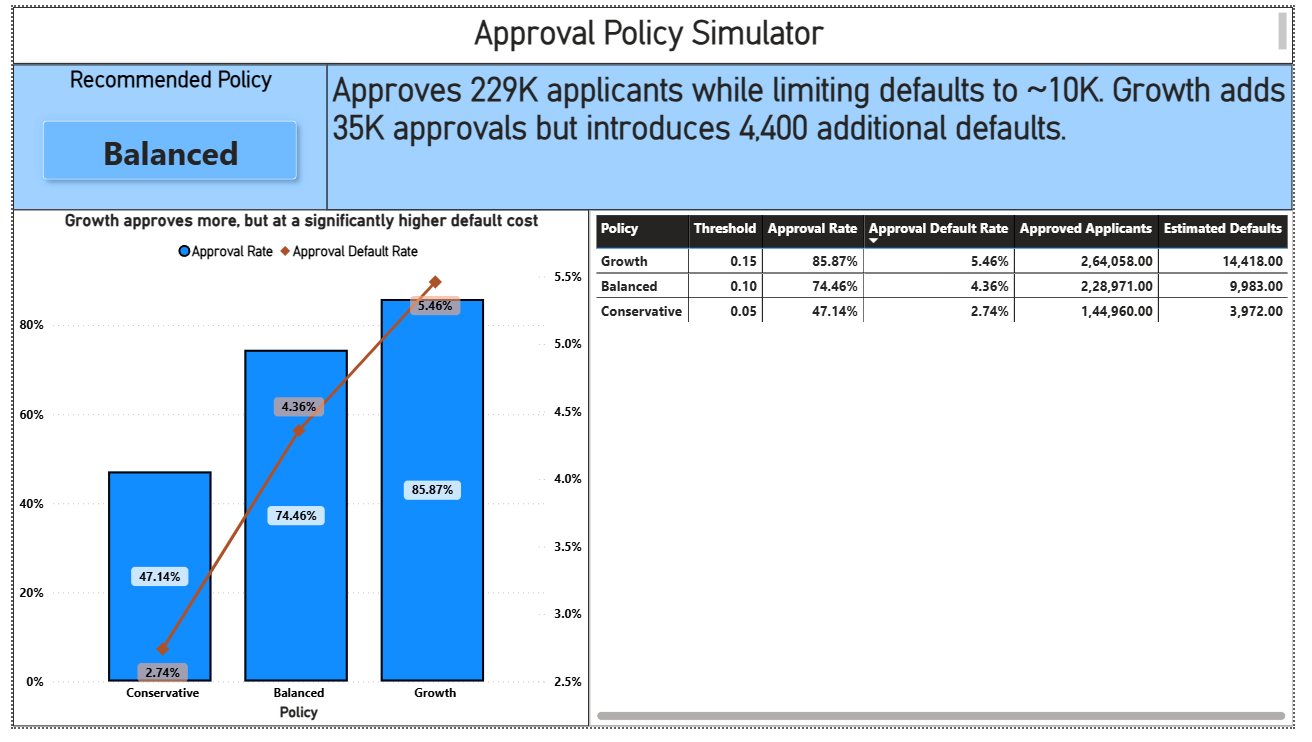

This screenshot's page, from the dashboard's own definition file:
{"tool":"powerbi","page":{"name":"Approval Policy","canvas":[1280,720],"ordinal":3},"visuals":[{"type":"textbox","title":"JGJGJVB","box":[0,0,1280,57.1],"z":0},{"type":"cardVisual","title":"Recommended Policy","fields":{"Data":["Policy Summary.Recommended Policy"]},"box":[0,57.1,314.3,145.7],"z":1},{"type":"lineClusteredColumnComboChart","title":"Growth approves more, but at a significantly higher default cost","fields":{"Category":["Policy Summary.Policy"],"Y":["Sum(Policy Summary.Approval Rate)"],"Y2":["Sum(Policy Summary.Approval Default Rate)"]},"box":[0,202.9,575.7,517.1],"z":2},{"type":"tableEx","fields":{"Values":["Policy Summary.Policy","Sum(Policy Summary.Threshold)","Sum(Policy Summary.Approval Rate)","Sum(Policy Summary.Approval Default Rate)","Sum(Policy Summary.Approved Applicants)","Sum(Policy Summary.Estimated Defaults)"]},"box":[575.7,202.9,704.3,517.1],"z":3},{"type":"textbox","box":[314.3,57.1,965.7,145.7],"z":4}]}

Visuals, with their boxes in screenshot pixels (x1, y1, x2, y2), scaled from the page's 1280x720 canvas onto the 1312x742 screenshot:
"JGJGJVB" textbox: BBox(0, 0, 1311, 59)
"Recommended Policy" cardVisual: BBox(0, 59, 322, 209)
"Growth approves more, but at a significantly higher default cost" lineClusteredColumnComboChart: BBox(0, 209, 590, 741)
tableEx - Policy Summary.Policy x Sum(Policy Summary.Threshold): BBox(590, 209, 1311, 741)
textbox: BBox(322, 59, 1311, 209)
